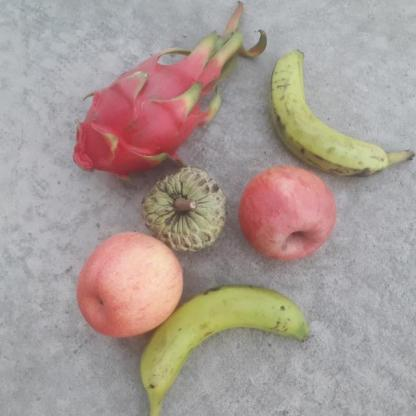annona: (140, 166, 232, 254)
apple: (77, 228, 177, 339), (235, 166, 339, 260)
banana: (135, 284, 317, 408), (268, 48, 414, 174)
pitaya: (69, 56, 205, 177)
